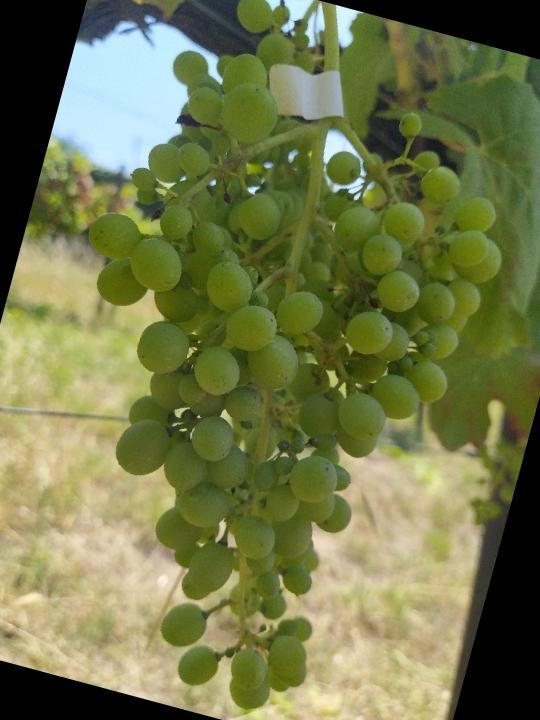grape: (0, 22, 538, 720)
